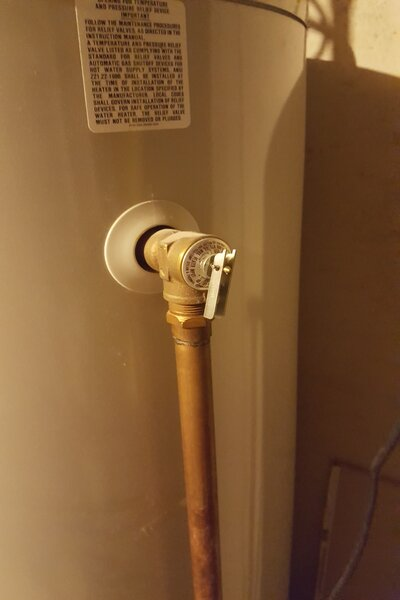valve: (132, 223, 239, 336)
